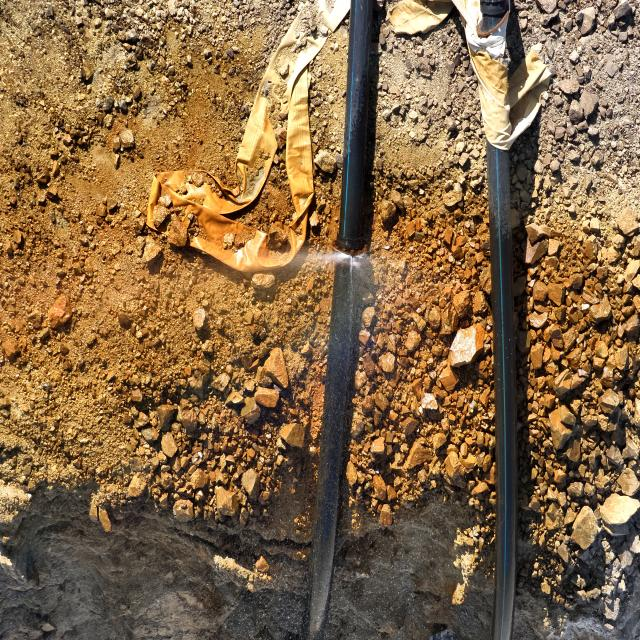leak: (233, 243, 392, 310)
